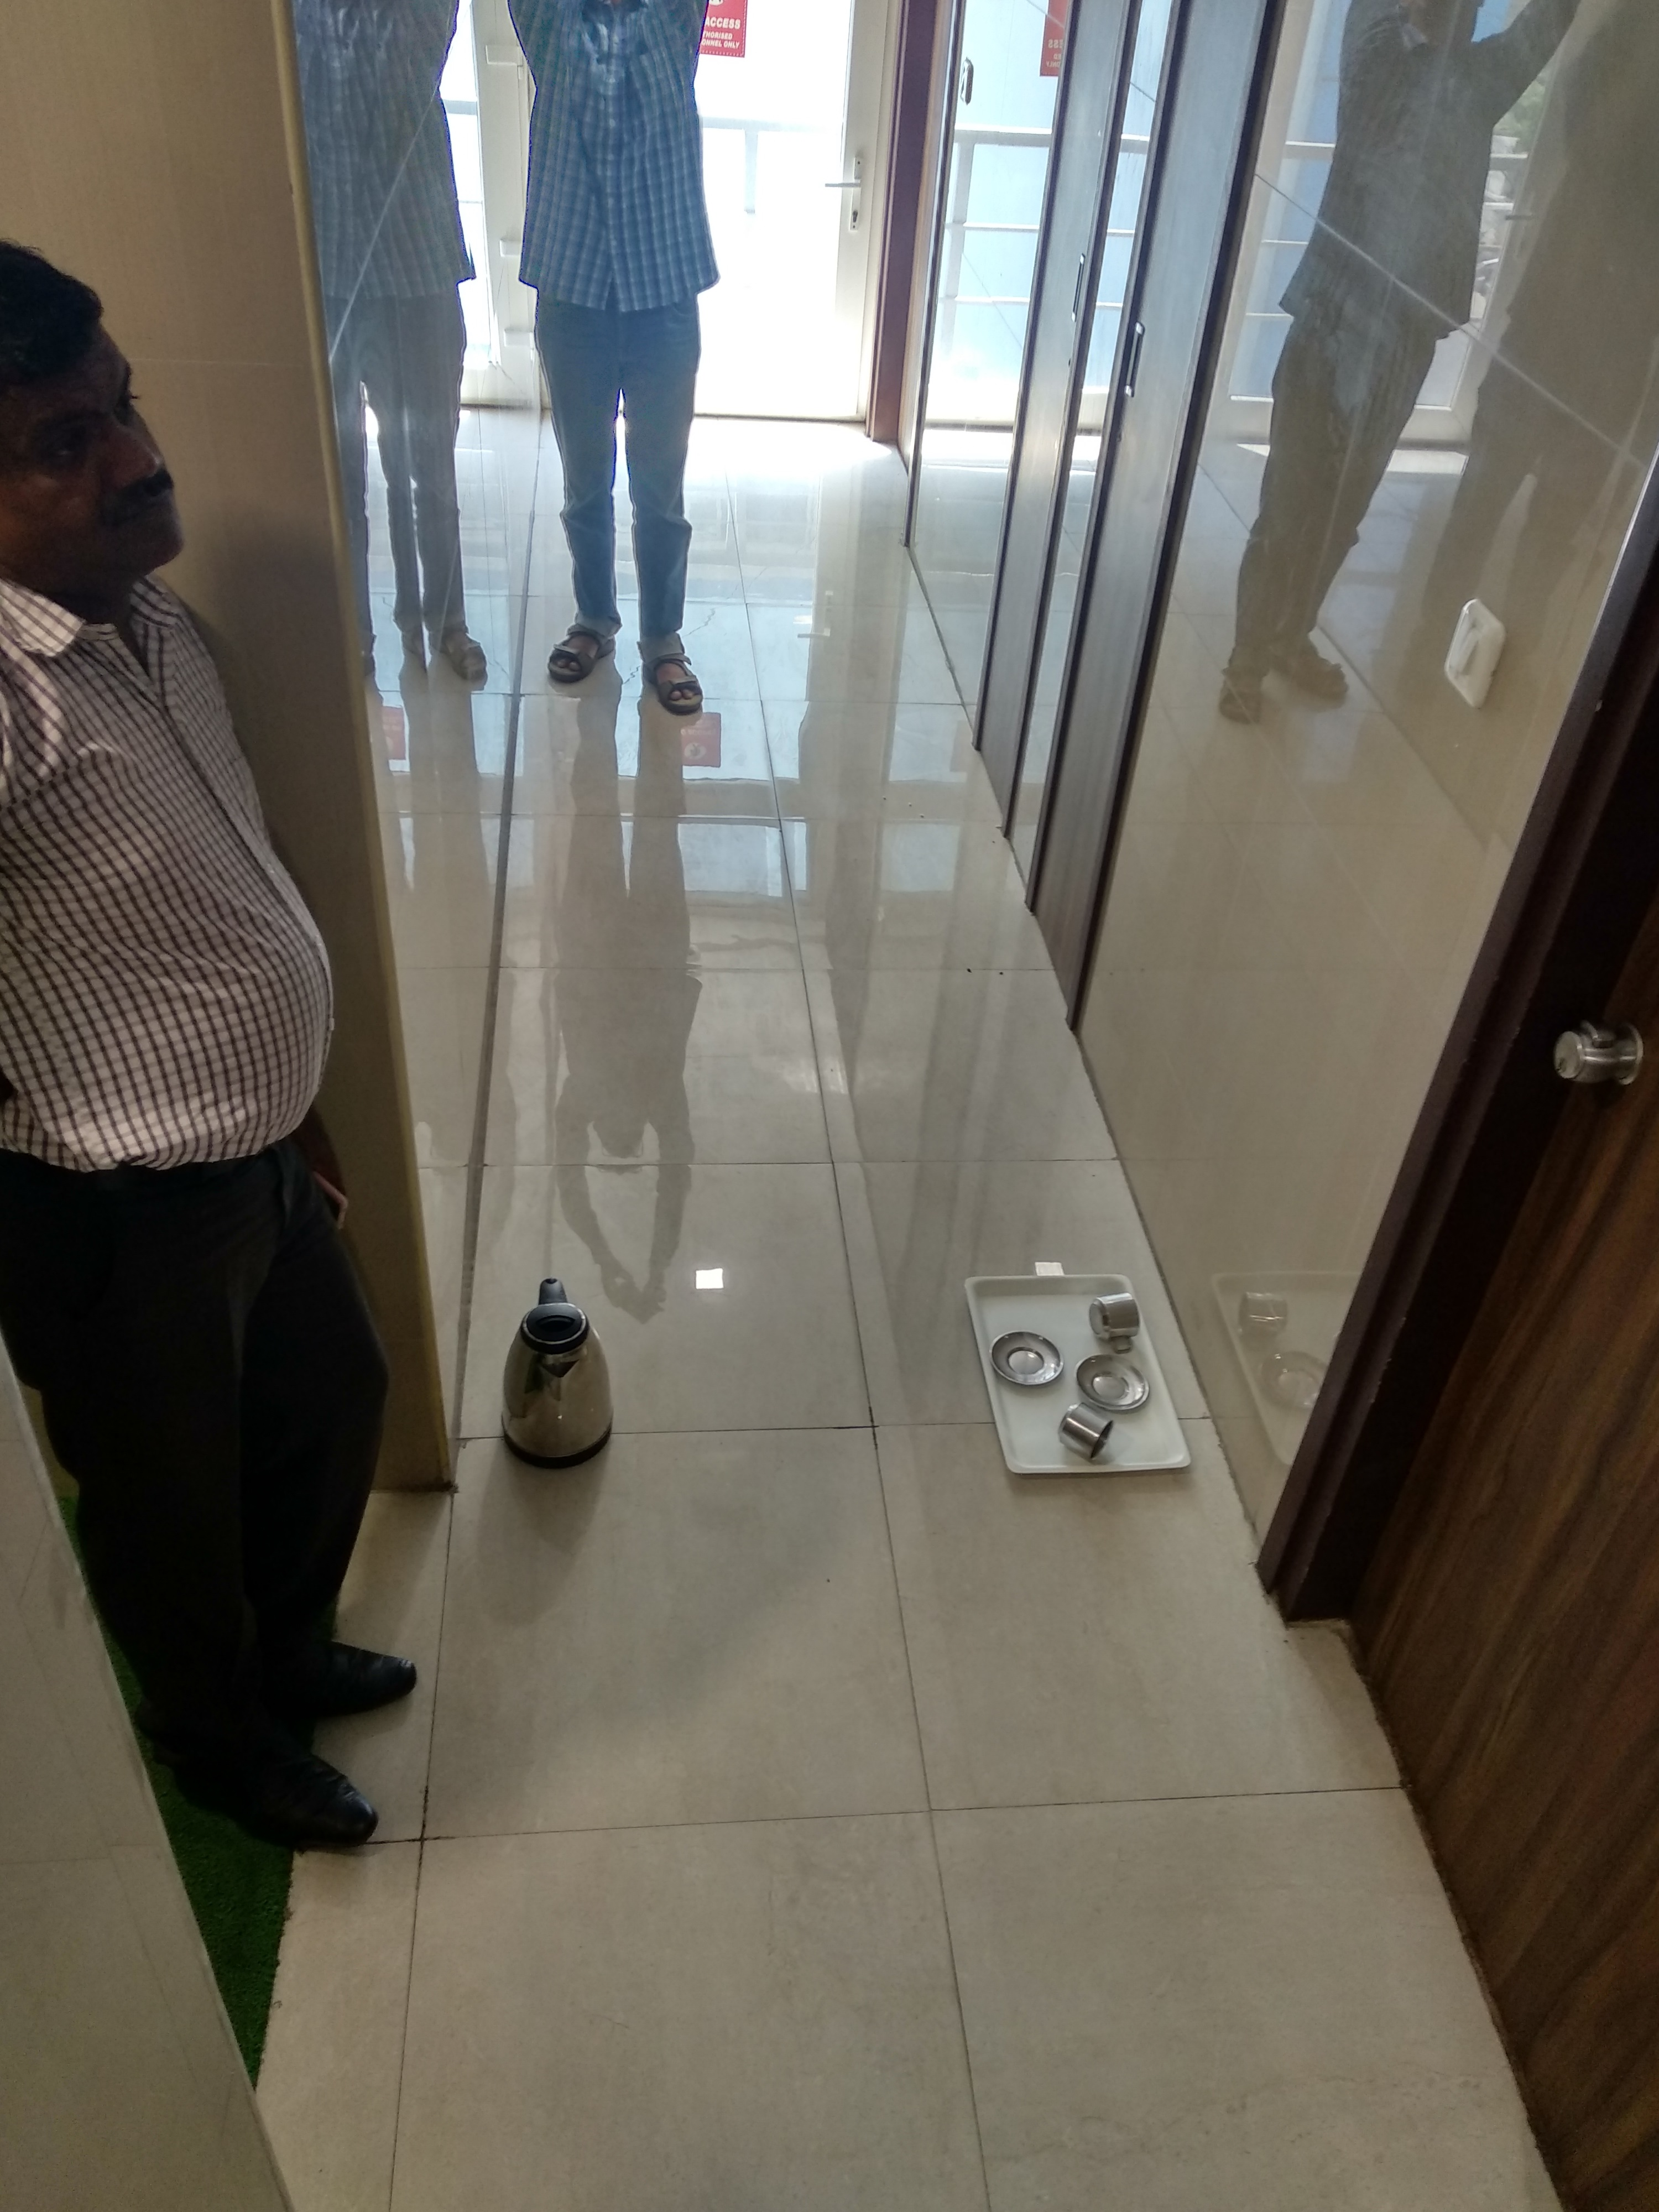CUP: (1058, 1395, 1112, 1463), (1087, 1291, 1140, 1339)
FLASK: (500, 1278, 627, 1479)
